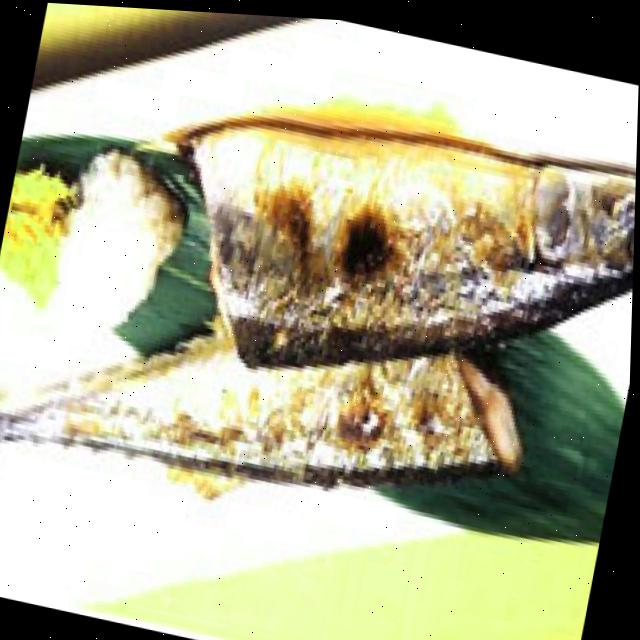熟制海鲜: (0, 46, 639, 562)
